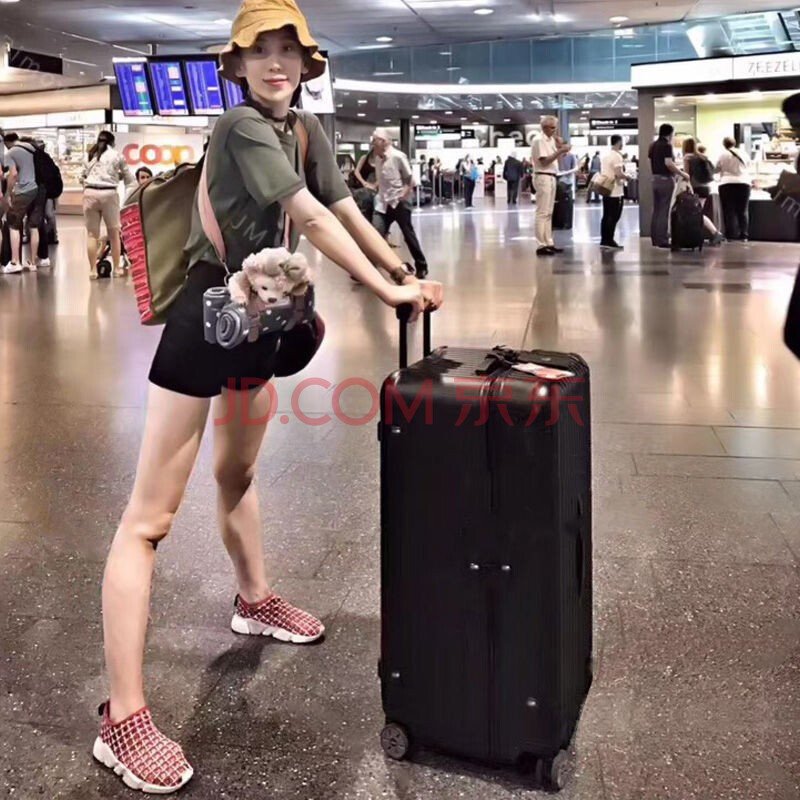box: (382, 346, 594, 766)
handle: (475, 346, 515, 375)
wheel: (532, 750, 571, 792), (380, 722, 411, 760)
